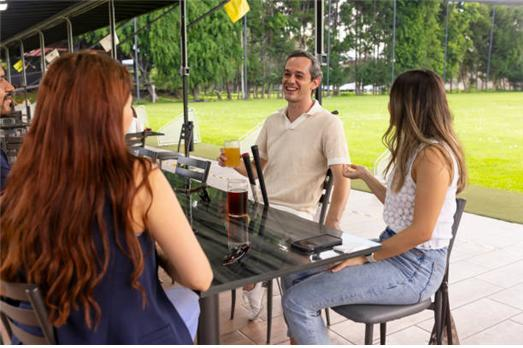alcohol: (227, 180, 252, 223), (222, 141, 241, 176)
